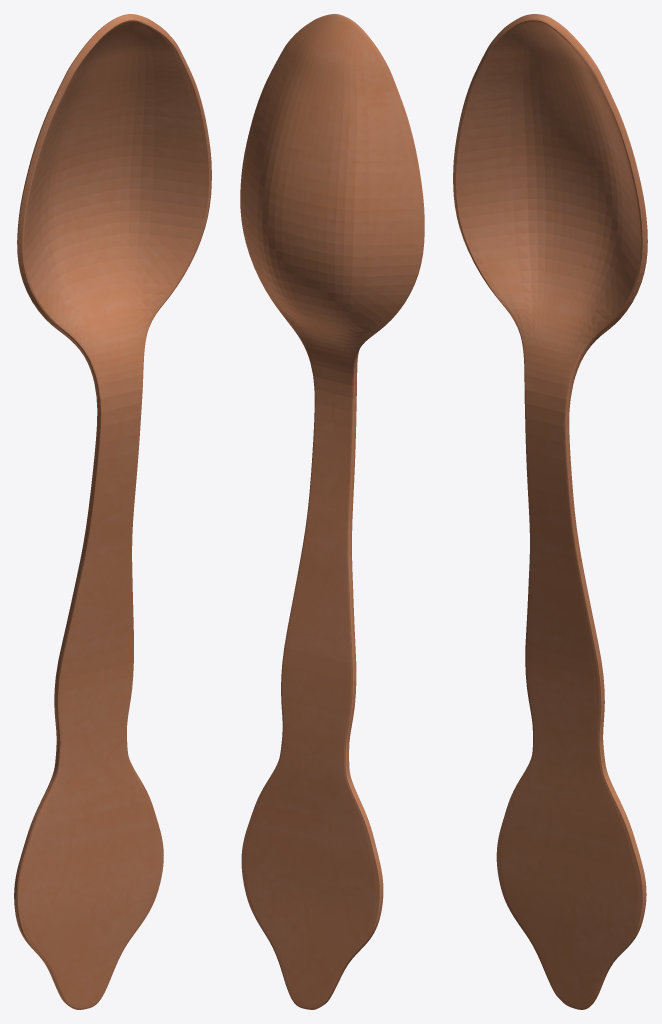
3 renders of one model, left to right at view 1: azimuth 30°, elevation 25°; view 2: azimuth 150°, elevation 25°; view 3: azimuth 330°, elevation 25°, orthographic. The views are drawn at different scales.
Parts seen in each view (by area): view 1: geometry_0; view 2: geometry_0; view 3: geometry_0.
Boxes of the visible parts, <box> form: geometry_0: <box>14,14,211,1009</box>; geometry_0: <box>240,14,424,1009</box>; geometry_0: <box>453,14,647,1009</box>.
Bounding box in the file's own units: 0.0234 × 0.118 × 0.00883.
Materials: 1 (1 with a texture image).
